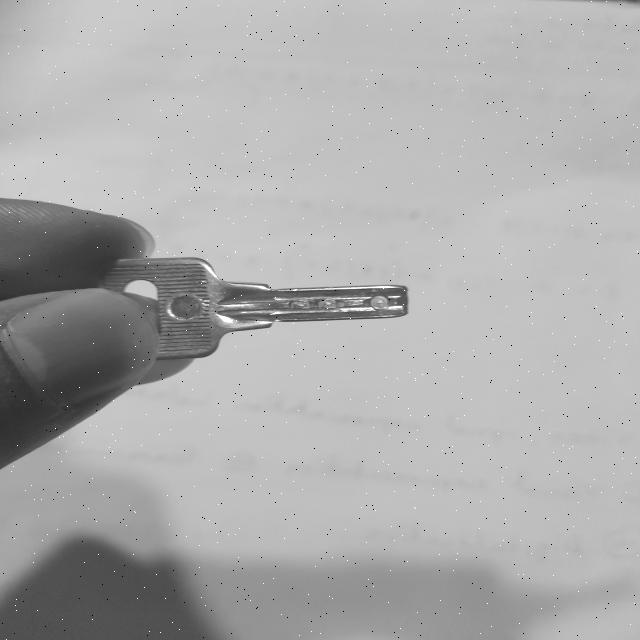key: (97, 257, 407, 360)
